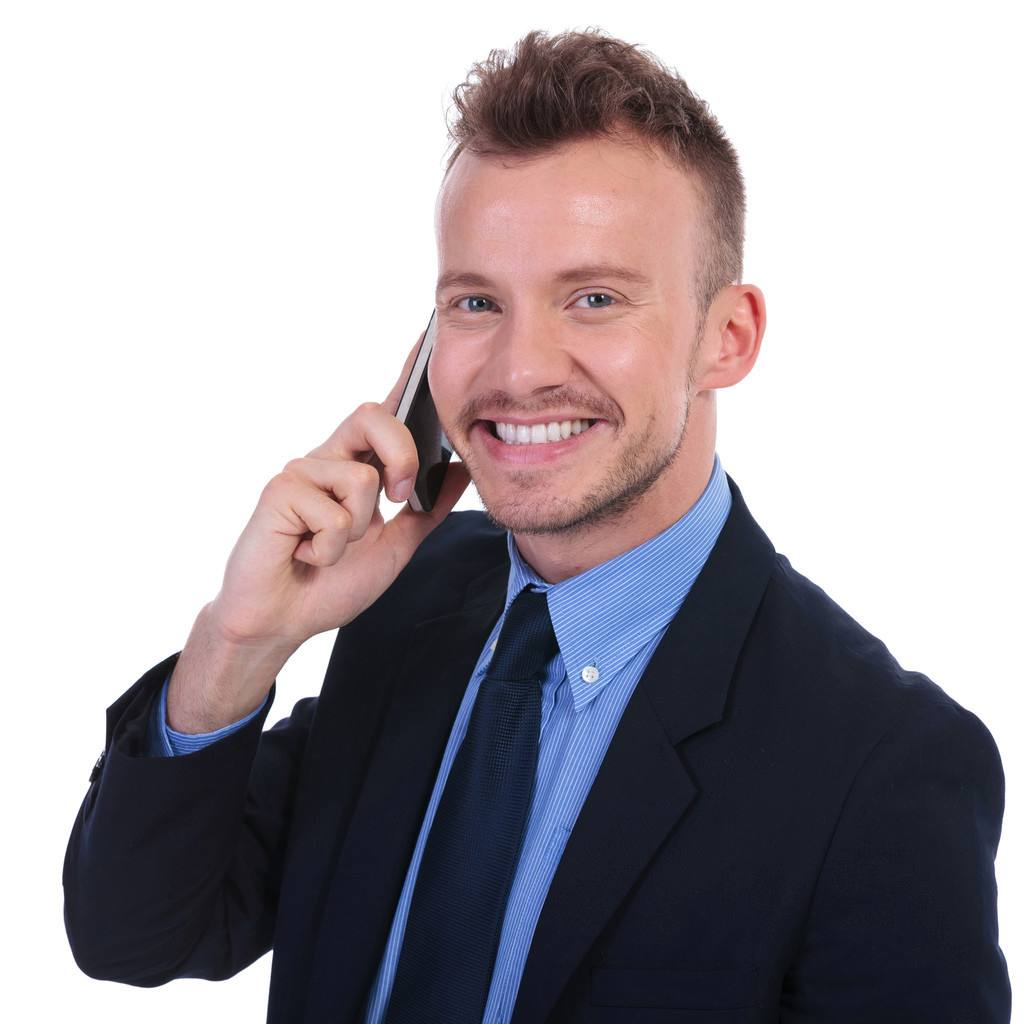calling: (207, 289, 477, 643)
